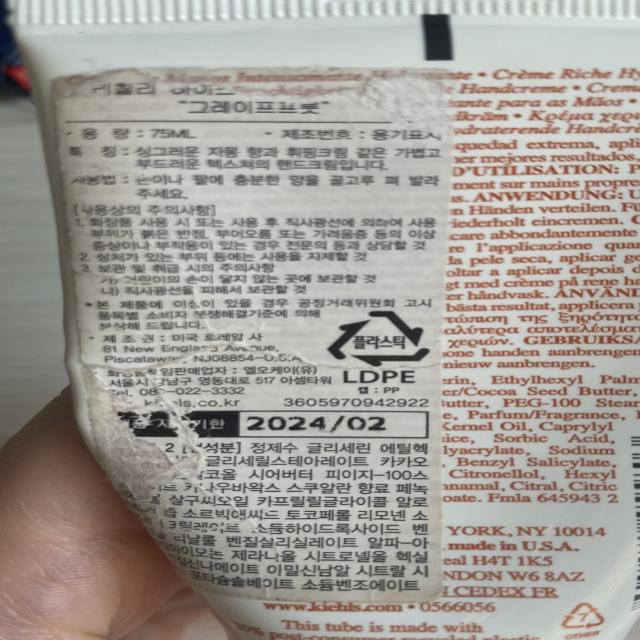Plastic: (317, 308, 433, 368)
